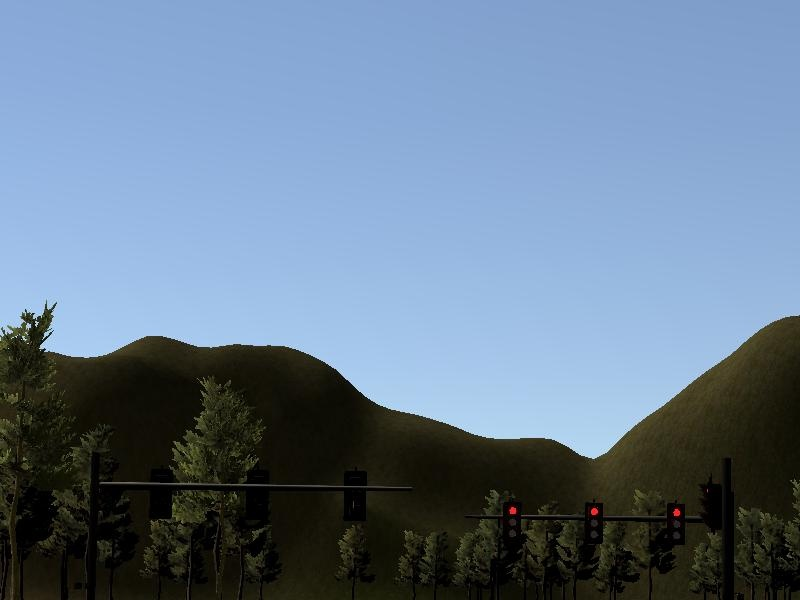RED: (661, 498, 690, 554), (498, 500, 529, 548), (579, 499, 607, 547)
